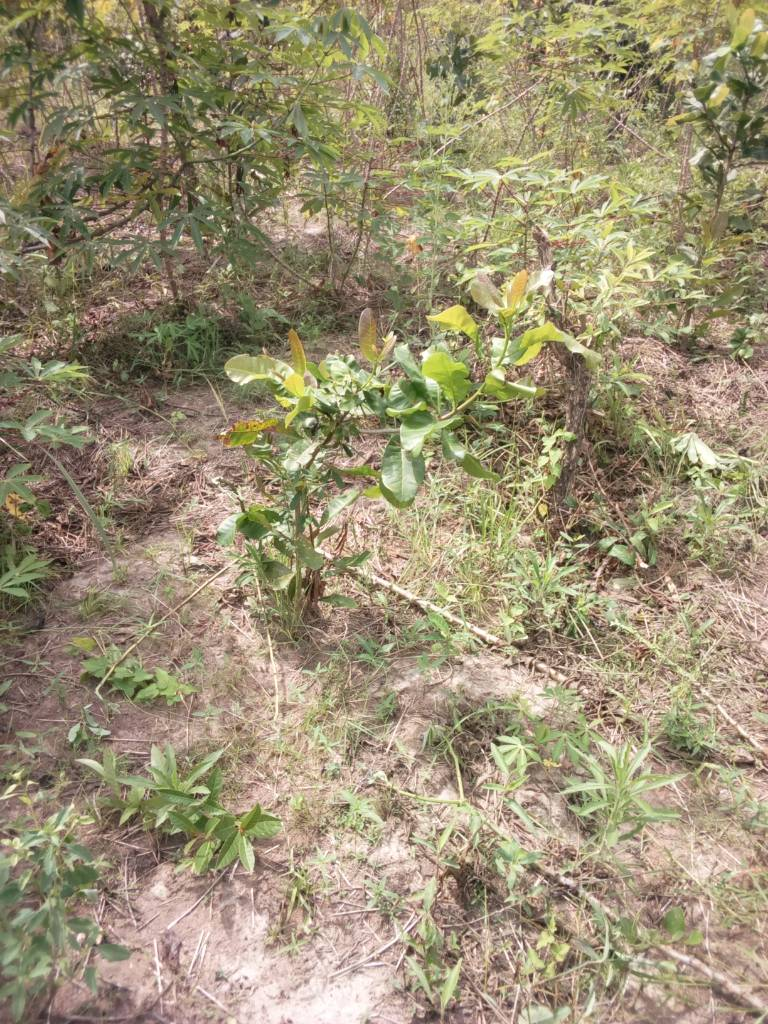Anthracnose: (222, 413, 282, 449)
